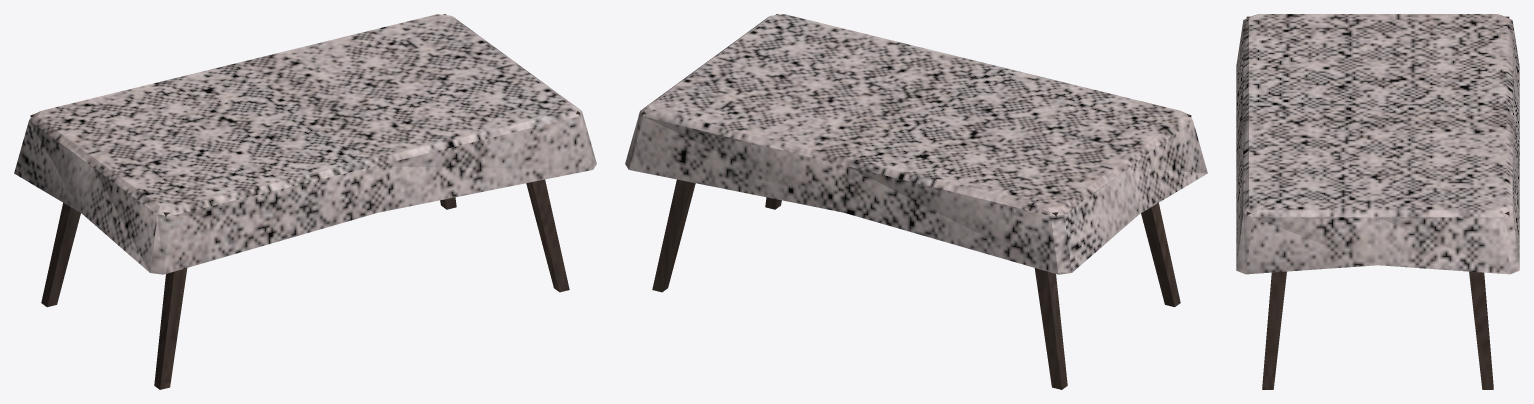
File: mesa_e.glb
3 views of the same model, side by side, from view 1: azimuth 30°, elevation 25°; view 2: azimuth 150°, elevation 25°; view 3: azimuth 270°, elevation 25° (orthographic). The views are drawn at different scales.
Visible parts, largest first — view 1: mesa_e; view 2: mesa_e; view 3: mesa_e.
Boxes of the visible parts, box(x1,y1,x2,y2) form: mesa_e: box(14, 14, 596, 389); mesa_e: box(625, 14, 1207, 389); mesa_e: box(1236, 14, 1519, 389).
Bounding box in the file's own units: 2.12 × 0.8416 × 1.2.
1 material, 1 textured.
